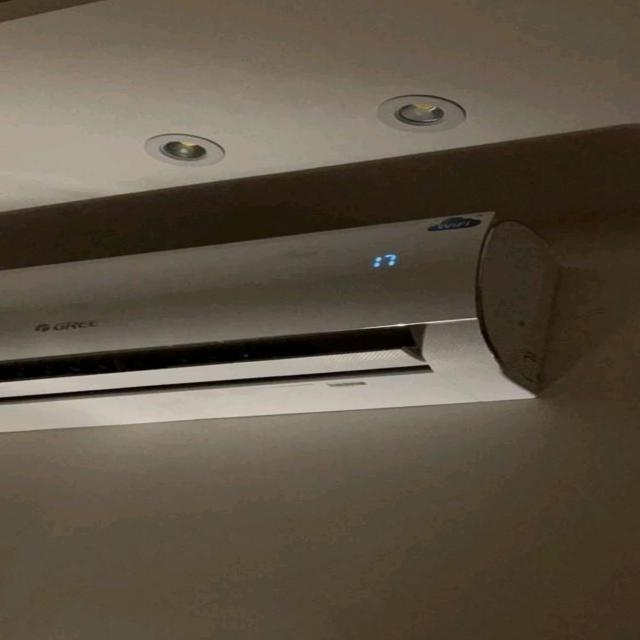AC: (0, 208, 563, 434)
